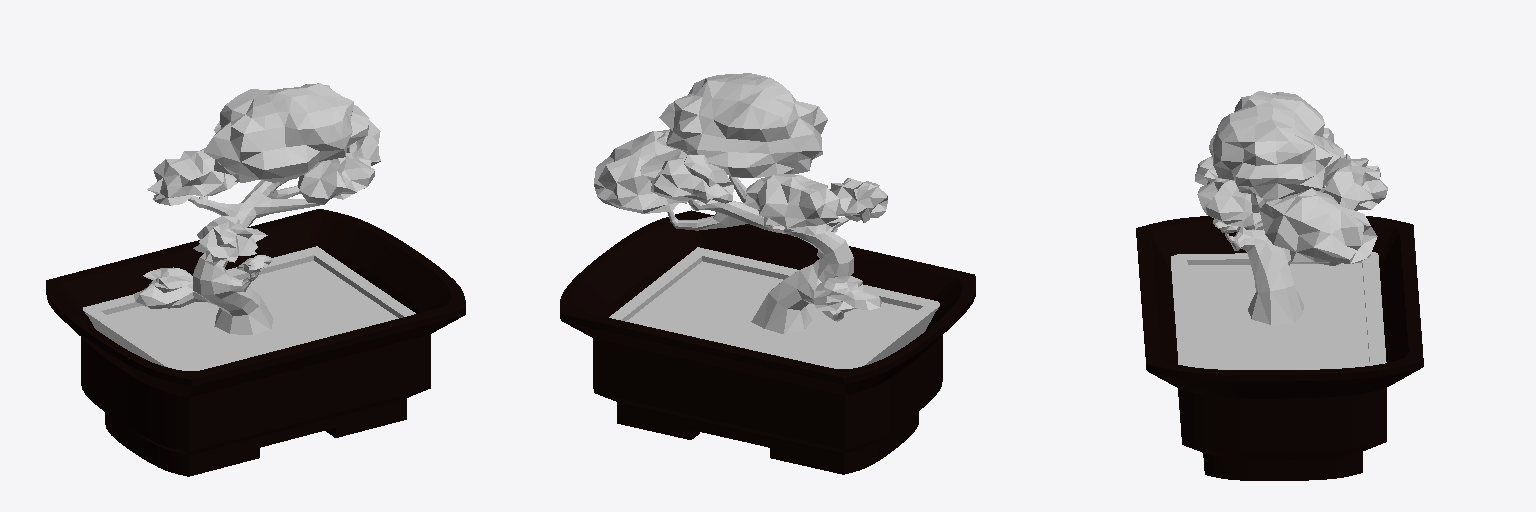
The model's file is plant.obj.
The picture shows the model from 3 angles: view 1: azimuth 30°, elevation 25°; view 2: azimuth 150°, elevation 25°; view 3: azimuth 270°, elevation 25°; orthographic projection.
Visible parts, largest first — view 1: Bonsai_pot_Mesh, Bonsai.001_Mesh; view 2: Bonsai.001_Mesh, Bonsai_pot_Mesh; view 3: Bonsai.001_Mesh, Bonsai_pot_Mesh.
Part boxes in pixels (bbox=[...]): Bonsai_pot_Mesh: bbox=[46, 209, 465, 476]; Bonsai.001_Mesh: bbox=[83, 83, 415, 370]; Bonsai.001_Mesh: bbox=[594, 73, 939, 368]; Bonsai_pot_Mesh: bbox=[560, 210, 975, 474]; Bonsai.001_Mesh: bbox=[1171, 91, 1387, 369]; Bonsai_pot_Mesh: bbox=[1136, 216, 1423, 480].
Size of the model in its own units: 0.1653 by 0.1564 by 0.1243.